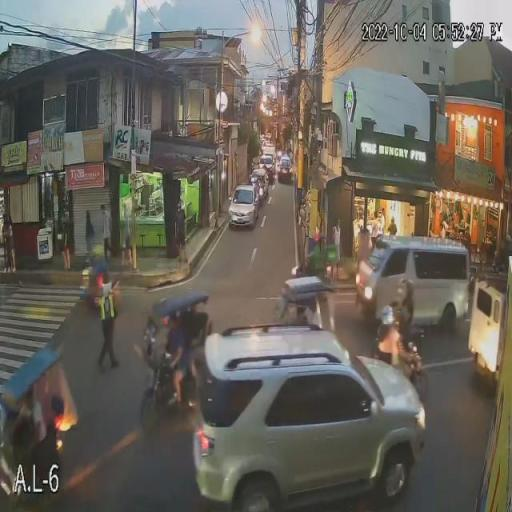helmet: (380, 304, 395, 326)
motorcycle: (405, 330, 430, 388)
rider: (377, 325, 400, 364)
